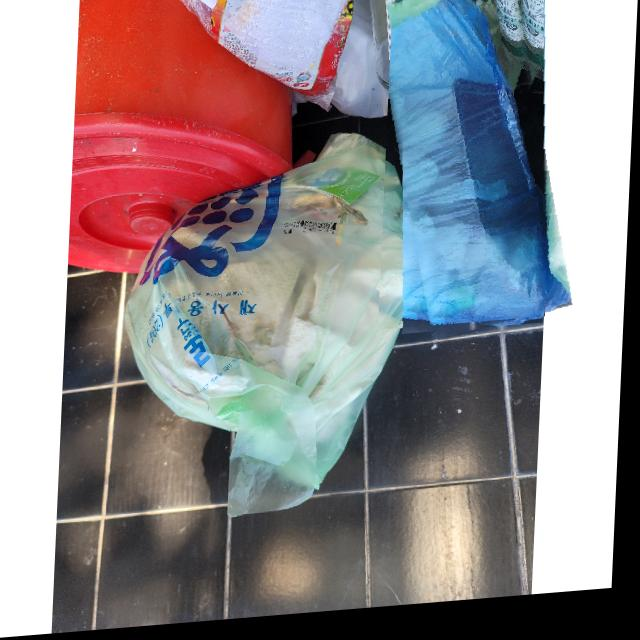general_trashbag: (300, 318, 302, 319)
other_trashbag: (391, 0, 574, 331)
